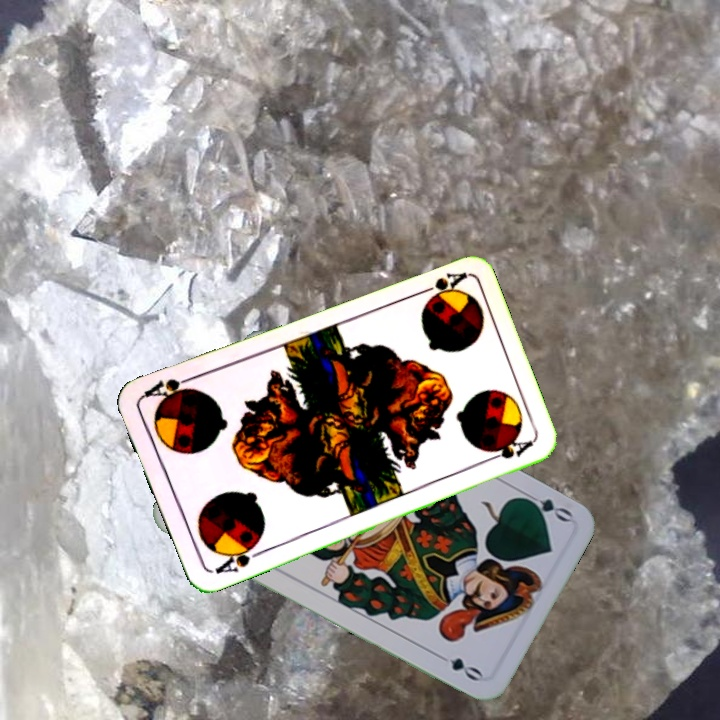GO: (516, 487, 575, 525)
SA: (207, 538, 265, 577), (411, 268, 468, 301)
